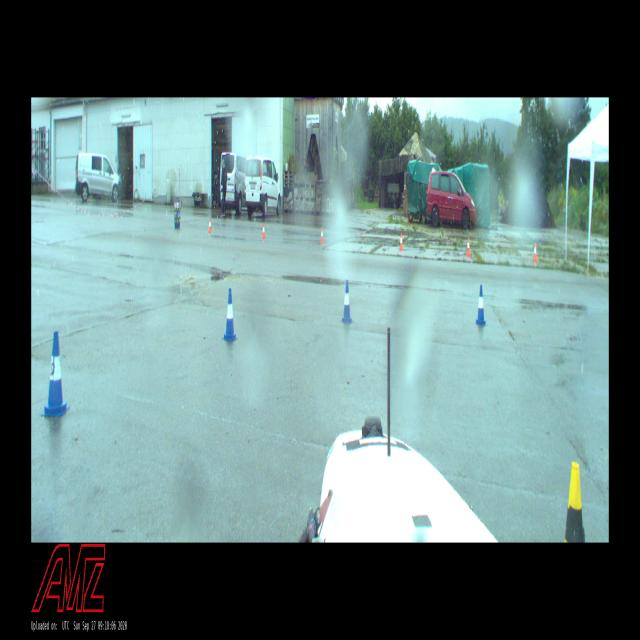blue_cone: (41, 332, 70, 417), (222, 289, 238, 341), (341, 280, 354, 322), (476, 284, 486, 325)
orange_cone: (532, 243, 538, 261), (399, 233, 404, 251), (466, 238, 471, 256), (320, 227, 324, 243), (262, 223, 266, 239), (208, 218, 212, 232)
yellow_cone: (565, 462, 585, 542)
